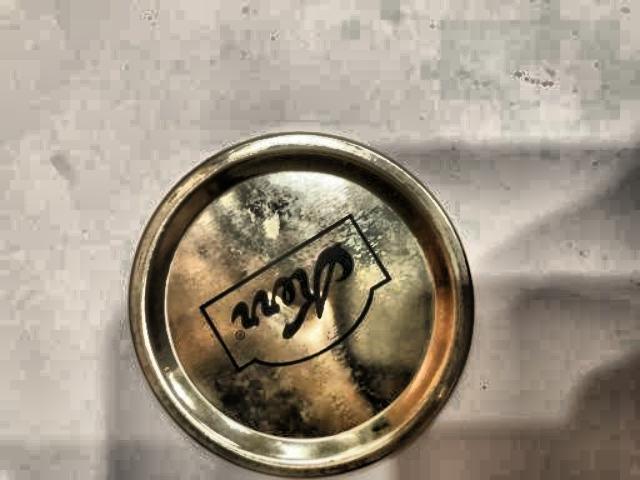Almennt: (79, 114, 504, 480)
